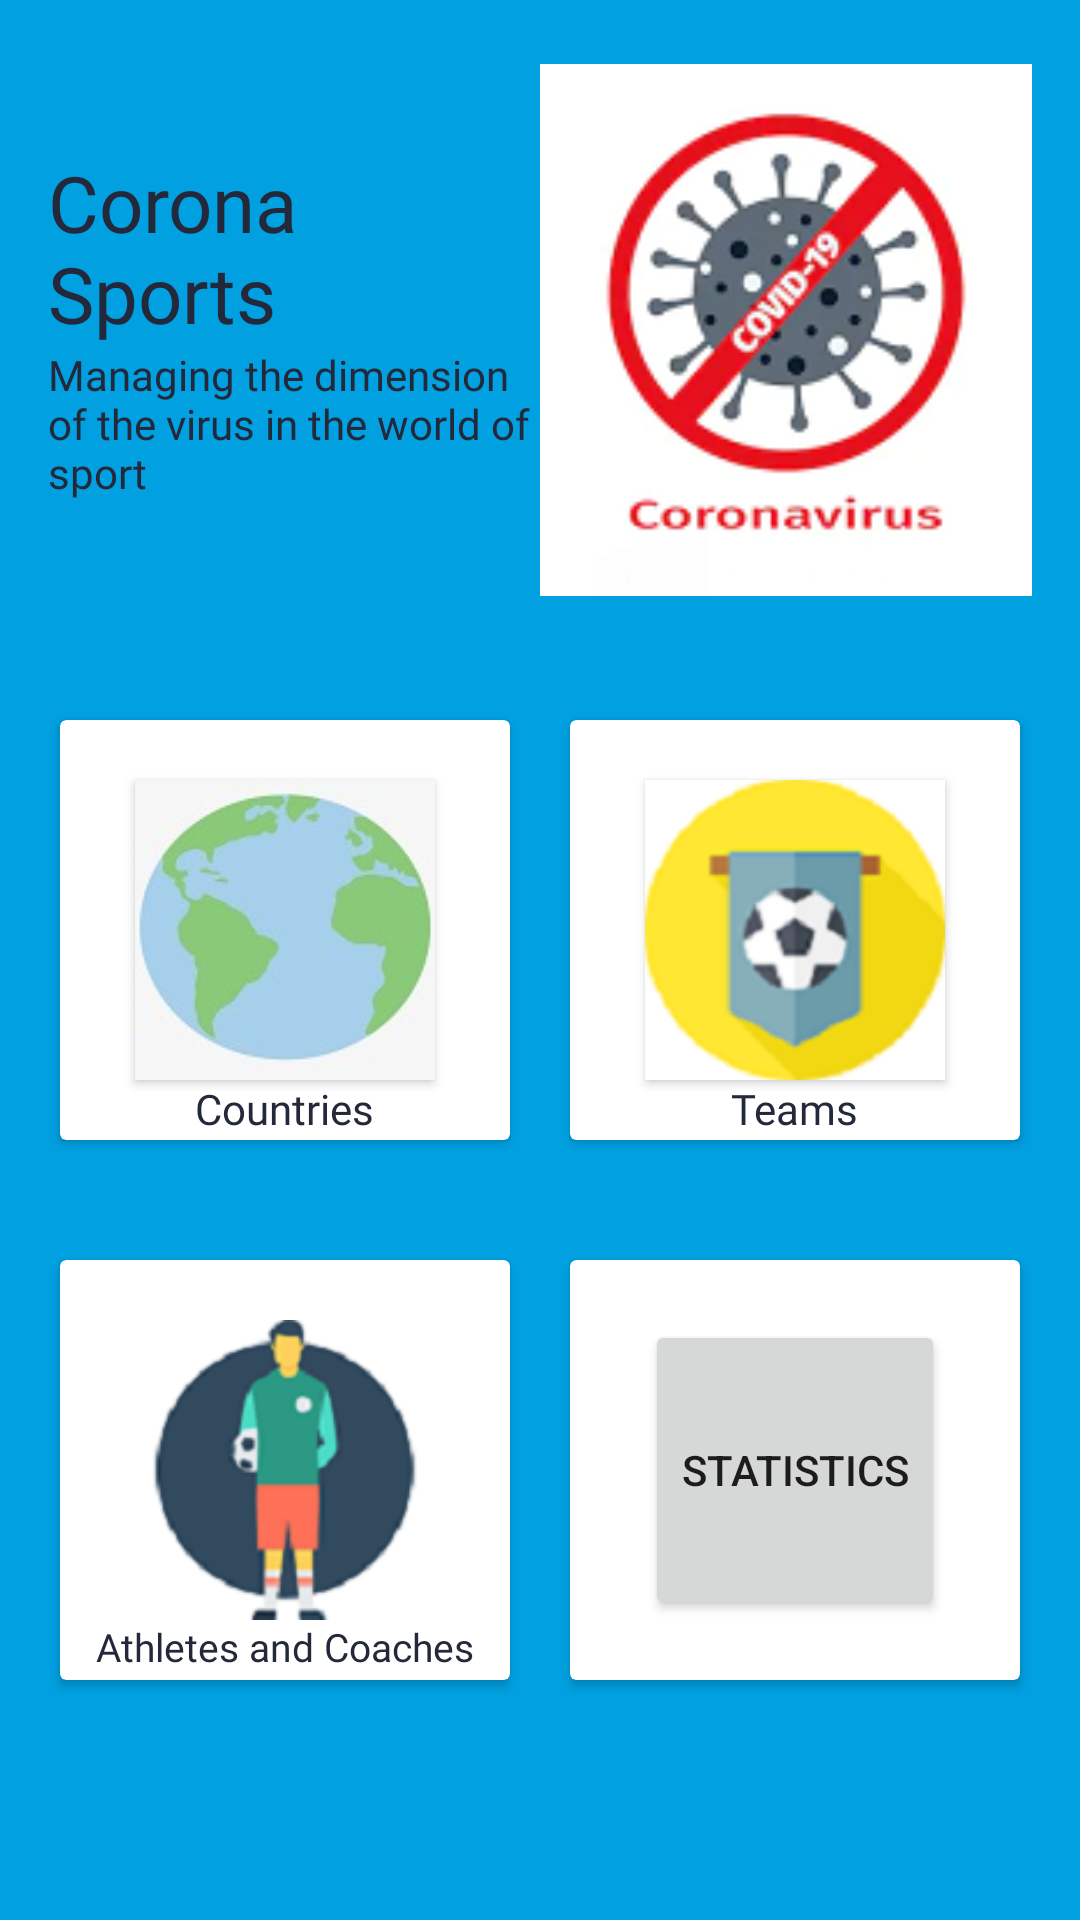

Icons on this 1080 x 1920 Android screen, each with its box as (x1, y1, x2, y2):
mundo: (139, 793, 431, 1061)
